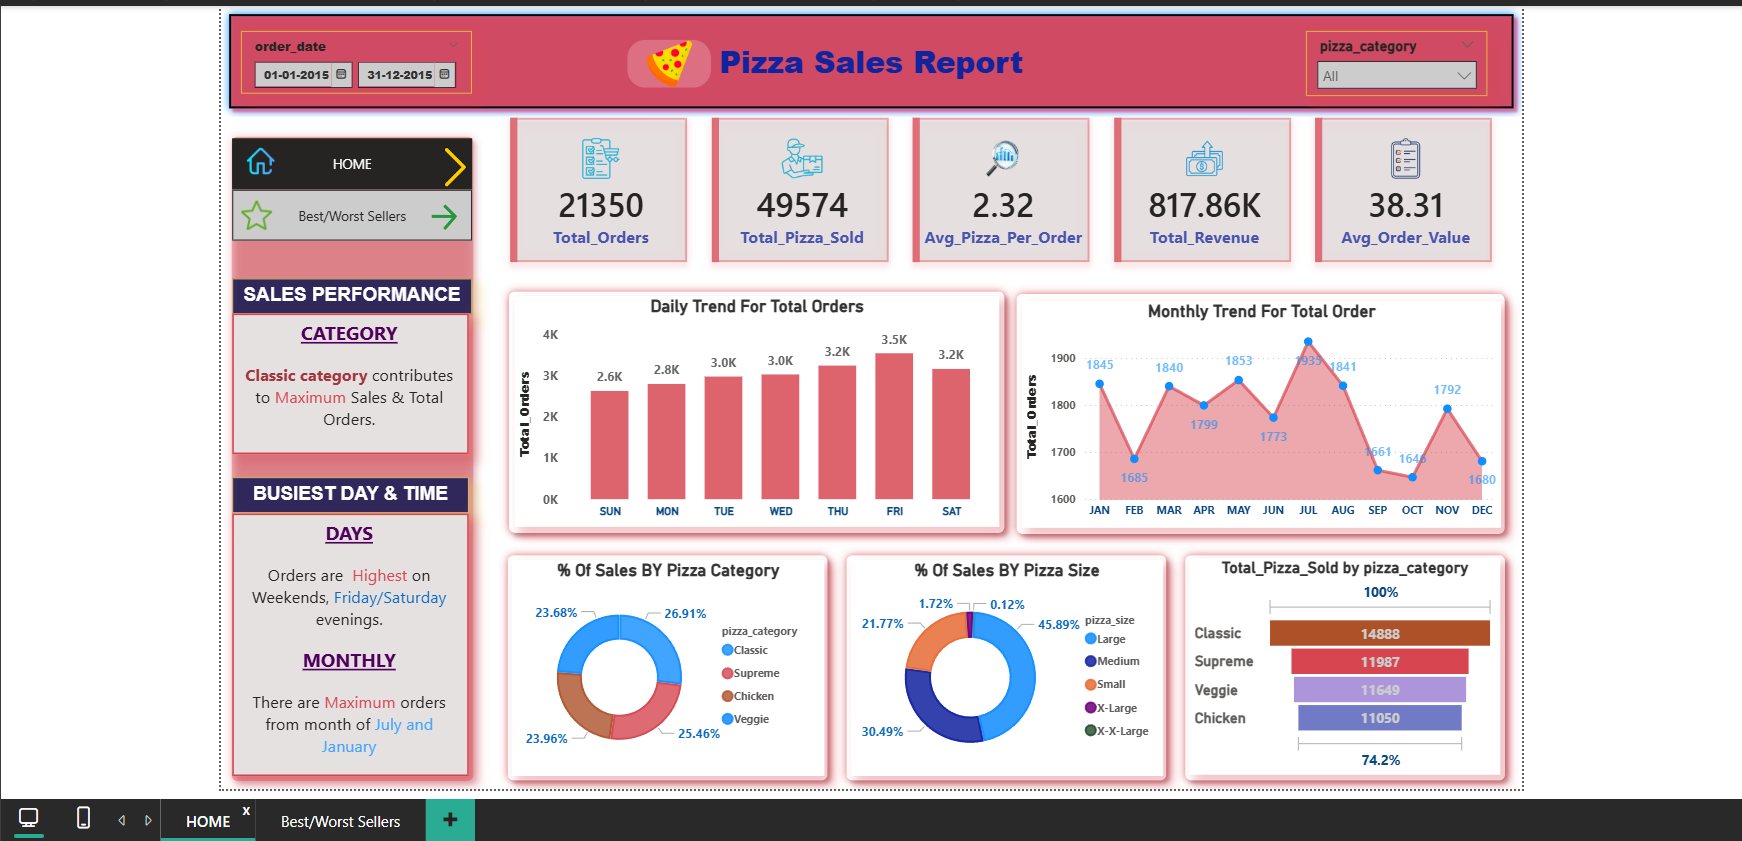

This screenshot's page, from the dashboard's own definition file:
{"tool":"powerbi","page":{"name":"HOME","canvas":[1280,771],"ordinal":0},"visuals":[{"type":"cardVisual","fields":{"Data":["pizza_sales.Total_Orders","pizza_sales.Total_Pizza_Sold","pizza_sales.Avg_Pizza_Per_Order","pizza_sales.Total_Revenue","pizza_sales.Avg_Order_Value"]},"box":[255.7,81.4,1024.3,200],"z":0},{"type":"shape","box":[0,0,1280,108.8],"z":1000},{"type":"image","box":[400,33.8,82.5,47.5],"z":2000},{"type":"shape","box":[274.3,271.4,505.7,255.7],"z":3000},{"type":"columnChart","title":"Daily Trend For Total Orders","fields":{"Category":["pizza_sales.Day_Name"],"Y":["pizza_sales.Total_Orders"]},"box":[288.6,285.7,477.1,227.1],"z":4000},{"type":"shape","box":[774.3,274.3,498.6,254.3],"z":5000},{"type":"areaChart","title":"Monthly Trend For Total Order","fields":{"Category":["pizza_sales.Order_Month"],"Y":["pizza_sales.Total_Orders"]},"box":[788.6,290,471.4,222.9],"z":6000},{"type":"shape","box":[273.6,531,332.9,239.9],"z":7000},{"type":"shape","box":[606.4,531,332.9,239.9],"z":8000},{"type":"shape","box":[939.3,531,332.9,239.9],"z":9000},{"type":"shape","box":[1.2,118.8,256.2,652.5],"z":10000},{"type":"textbox","box":[10.8,463.6,233.1,35],"z":11000},{"type":"donutChart","title":"% Of Sales BY Pizza Category","fields":{"Category":["pizza_sales.pizza_category"],"Y":["pizza_sales.Total_Revenue"]},"box":[287.1,544.5,307.3,212.9],"z":12000},{"type":"donutChart","title":"% Of Sales BY Pizza Size","fields":{"Y":["pizza_sales.Total_Revenue"],"Category":["pizza_sales.pizza_size"]},"box":[619.9,544.5,307.3,212.9],"z":13000},{"type":"funnel","fields":{"Category":["pizza_sales.pizza_category"],"Y":["pizza_sales.Total_Pizza_Sold"]},"box":[952.9,544.3,305.7,212.9],"z":14000},{"type":"textbox","box":[11,499,233,258],"z":15000},{"type":"textbox","box":[11,268,236,35],"z":16000},{"type":"textbox","box":[11,303,233,138],"z":17000},{"type":"slicer","fields":{"Values":["pizza_sales.order_date"]},"box":[20,25,227.5,61.2],"z":18000},{"type":"slicer","fields":{"Values":["pizza_sales.pizza_category"]},"box":[1067.5,25,178.8,63.8],"z":19000},{"type":"pageNavigator","box":[11.1,130.4,236.2,50.4],"z":20000},{"type":"pageNavigator","box":[11.1,180.8,236.2,50.4],"z":21000},{"type":"image","box":[11.1,139,56.6,27.1],"z":21001},{"type":"image","box":[205.4,139,50.4,39.4],"z":21002},{"type":"image","box":[11.1,190.7,48,30.8],"z":21003},{"type":"actionButton","box":[201.7,190.7,43.1,34.4],"z":21004}]}

Visuals, with their boxes on the page's 1280x771 design canvas (x1, y1, x2, y2). These are canvas units, not pixel positions in the 1742x841 screenshot, which may show the page scaled, cropped or inside an application window:
cardVisual - pizza_sales.Total_Orders x pizza_sales.Total_Pizza_Sold: 256:81:1280:281
shape: 0:0:1280:109
image: 400:34:482:81
shape: 274:271:780:527
"Daily Trend For Total Orders" columnChart: 289:286:766:513
shape: 774:274:1273:529
"Monthly Trend For Total Order" areaChart: 789:290:1260:513
shape: 274:531:606:771
shape: 606:531:939:771
shape: 939:531:1272:771
shape: 1:119:257:771
textbox: 11:464:244:499
"% Of Sales BY Pizza Category" donutChart: 287:544:594:757
"% Of Sales BY Pizza Size" donutChart: 620:544:927:757
funnel - pizza_sales.pizza_category x pizza_sales.Total_Pizza_Sold: 953:544:1259:757
textbox: 11:499:244:757
textbox: 11:268:247:303
textbox: 11:303:244:441
slicer - pizza_sales.order_date: 20:25:248:86
slicer - pizza_sales.pizza_category: 1068:25:1246:89
pageNavigator: 11:130:247:181
pageNavigator: 11:181:247:231
image: 11:139:68:166
image: 205:139:256:178
image: 11:191:59:222
actionButton: 202:191:245:225
